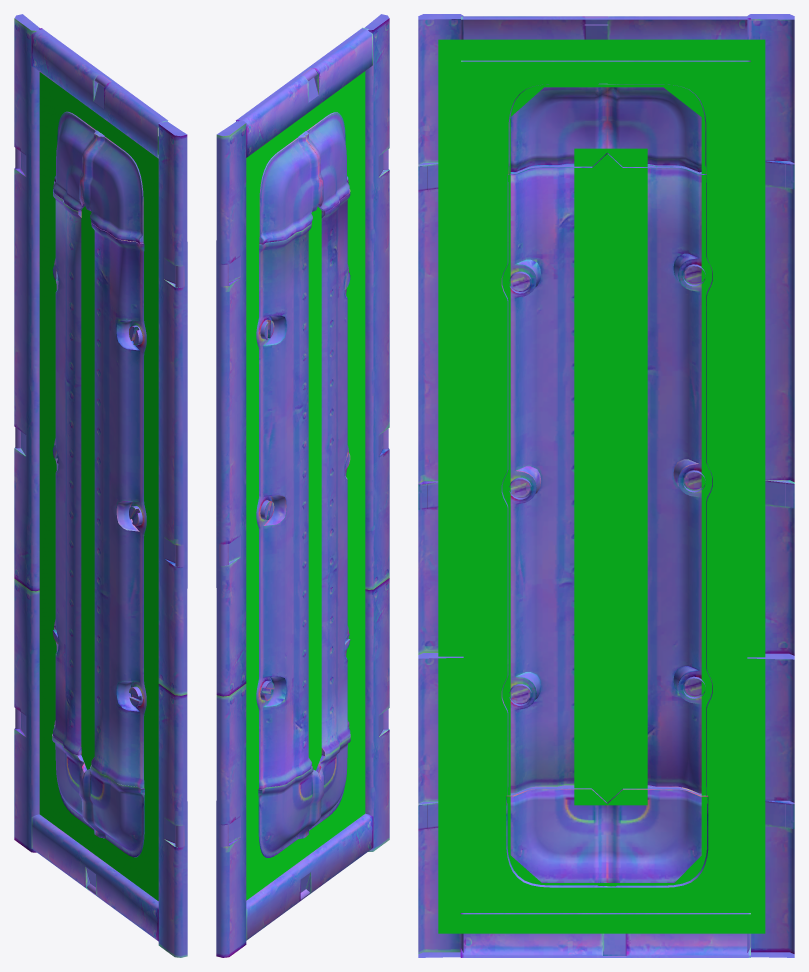
File: Wall_Interior_400x1100_A.fbx
3 views of the same model, side by side, from view 1: azimuth 30°, elevation 25°; view 2: azimuth 150°, elevation 25°; view 3: azimuth 270°, elevation 25° (orthographic). The views are drawn at different scales.
Visible parts, largest first — view 1: Geom_Wall_Interior_400x1100_A_LOD00; view 2: Geom_Wall_Interior_400x1100_A_LOD00; view 3: Geom_Wall_Interior_400x1100_A_LOD00.
Boxes of the visible parts, box(x1,y1,x2,y2) form: Geom_Wall_Interior_400x1100_A_LOD00: box(14, 14, 187, 957); Geom_Wall_Interior_400x1100_A_LOD00: box(216, 14, 389, 957); Geom_Wall_Interior_400x1100_A_LOD00: box(418, 14, 794, 957).
Size of what is drawn, in the model's own units: 32.34 by 1100 by 400.
